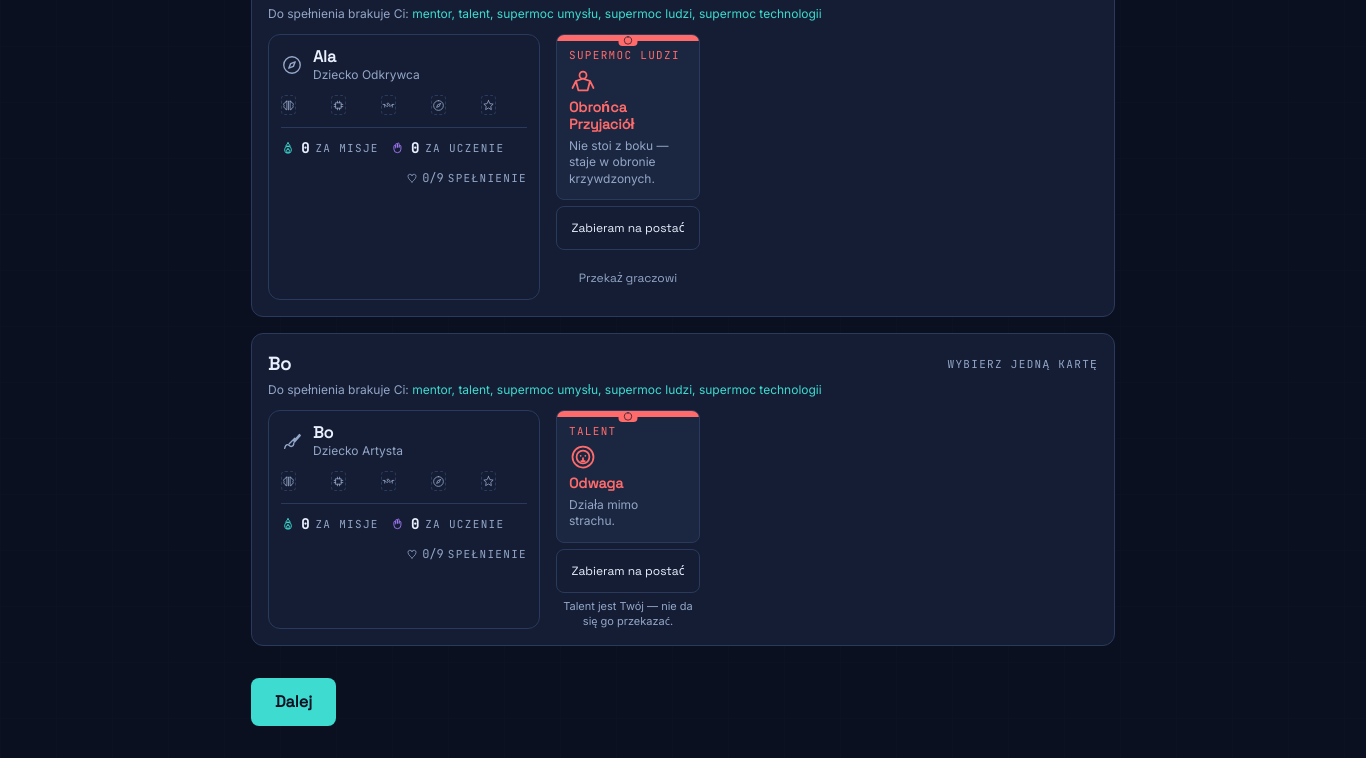
Test: przekazanie karty graczowi, który już wziął swoją (ekran podsumowania) › gracz, który zabrał już własną kartę, nadal jest widoczny jako odbiorca
(page scrolled)
Click the button "Zabieram na postać" below "Działa mimo strachu." at [628, 570], box top-left (556, 548), bottom-right (700, 592)
(page scrolled)
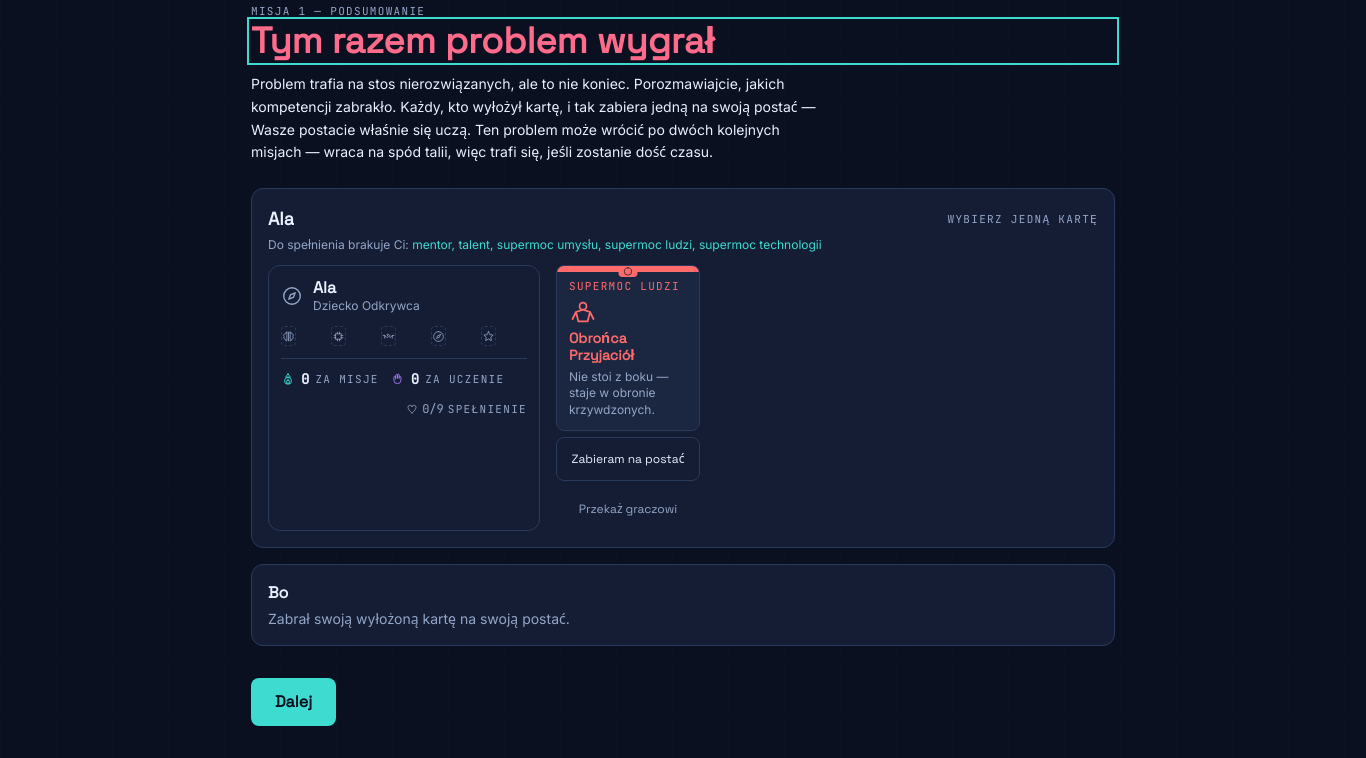
// Ala (p1) otwiera ofertę przekazania SWOJEJ karty.
Click the button "Przekaż graczowi" at [628, 509], box top-left (556, 487), bottom-right (700, 531)
(page scrolled)
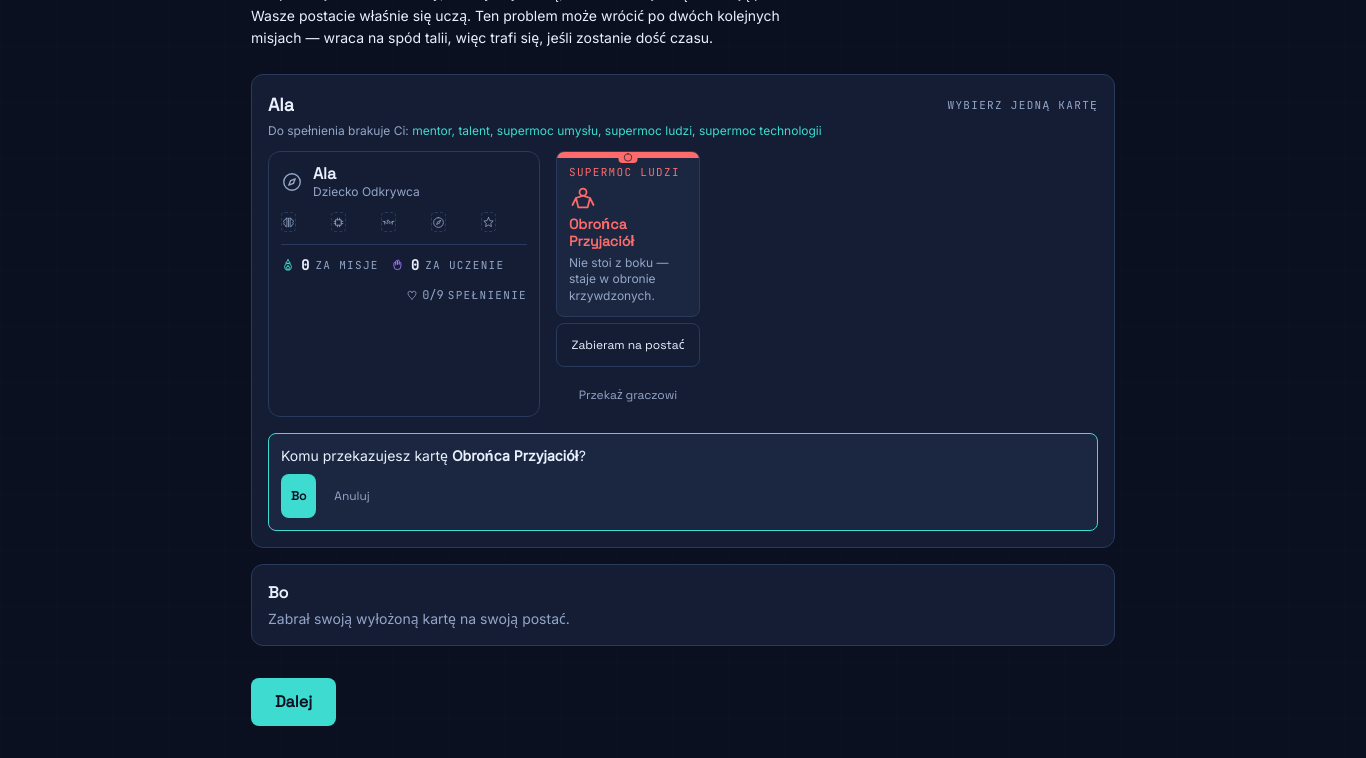
Now the text "Komu przekazujesz kartę Obrońca Przyjaciół?" is shown, box top-left (281, 447), bottom-right (586, 464)
Now the button "Bo" is shown, box top-left (281, 474), bottom-right (316, 518)
